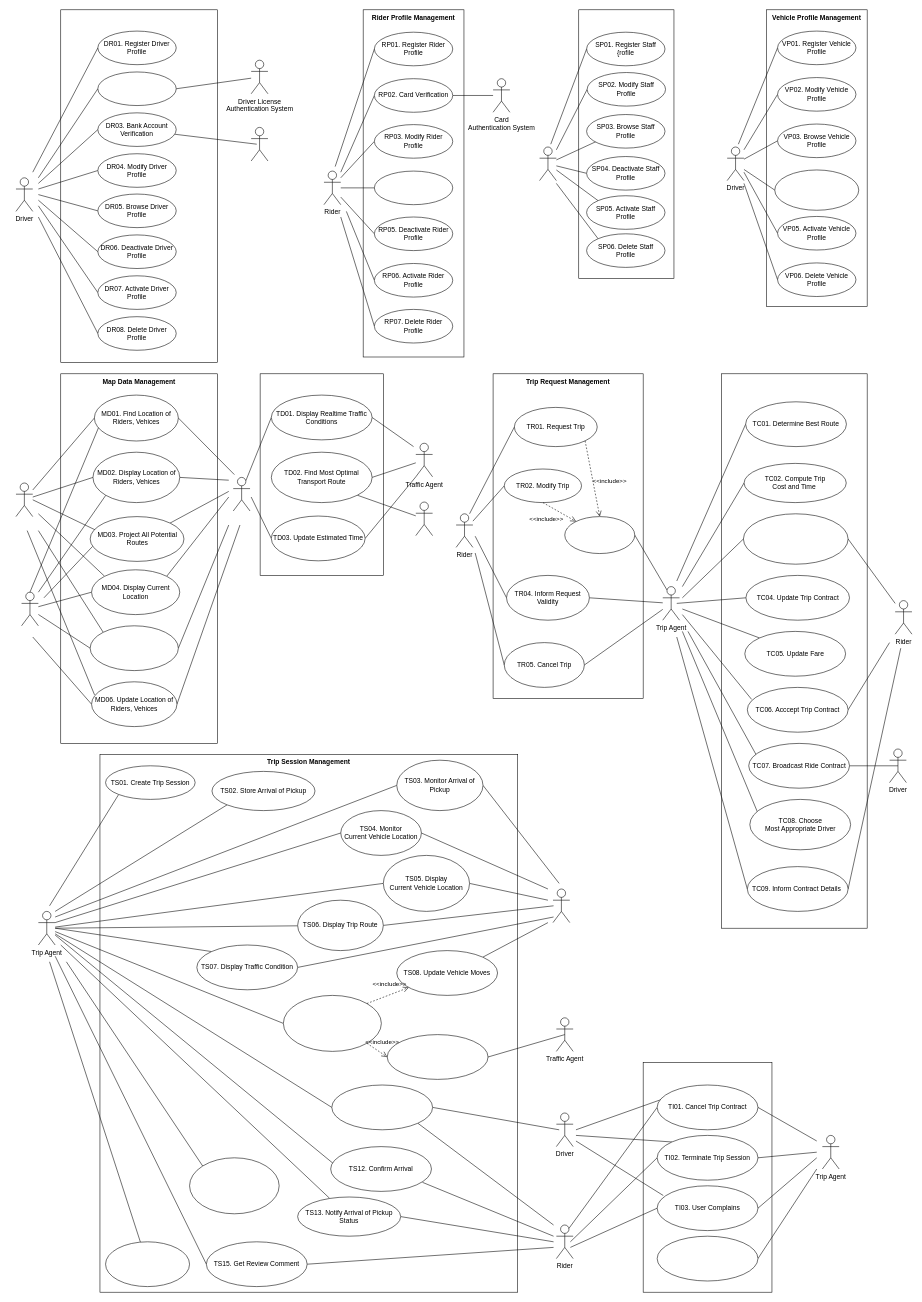
The diagram is 922 pixels wide and 1302 high, and some of its shapes have lost their labels. The box of each missing label's shape, as (x1, y1, x2, y2) in pixels:
Bank Authentication System: (251, 127, 268, 161)
DR02. Driver License Verification: (97, 71, 176, 106)
Driver App: (21, 592, 38, 626)
Driver Profile Management: (60, 9, 218, 363)
Map Agent: (233, 477, 250, 511)
MapAgent: (552, 888, 570, 923)
MD05. Update Current Location: (90, 625, 178, 671)
ML Model: (415, 501, 433, 536)
Rider App: (15, 482, 33, 517)
RP04. Browse Rider Profile: (374, 171, 453, 205)
Staff: (539, 146, 556, 181)
Staff Profile Management: (578, 9, 674, 279)
TC03. Ask to Choose Available Ride Option: (743, 513, 848, 564)
TI04. Save History: (657, 1236, 758, 1281)
TR03. Check Request Validity: (564, 516, 635, 554)
Traffic Data Management: (260, 373, 383, 575)
Trip Contract Management: (721, 373, 867, 928)
Trip Issue Management: (643, 1062, 772, 1292)
TS09. Update Arrival Time: (283, 995, 381, 1051)
TS10. Monitor Traffic Condition: (387, 1034, 488, 1079)
TS11. Sugget New Route: (331, 1084, 433, 1130)
TS14. Modify Trip Route: (189, 1157, 279, 1214)
TS16. Close Trip Session: (105, 1241, 190, 1287)
VP04. Deactivate Vehicle Profile: (774, 169, 859, 210)
